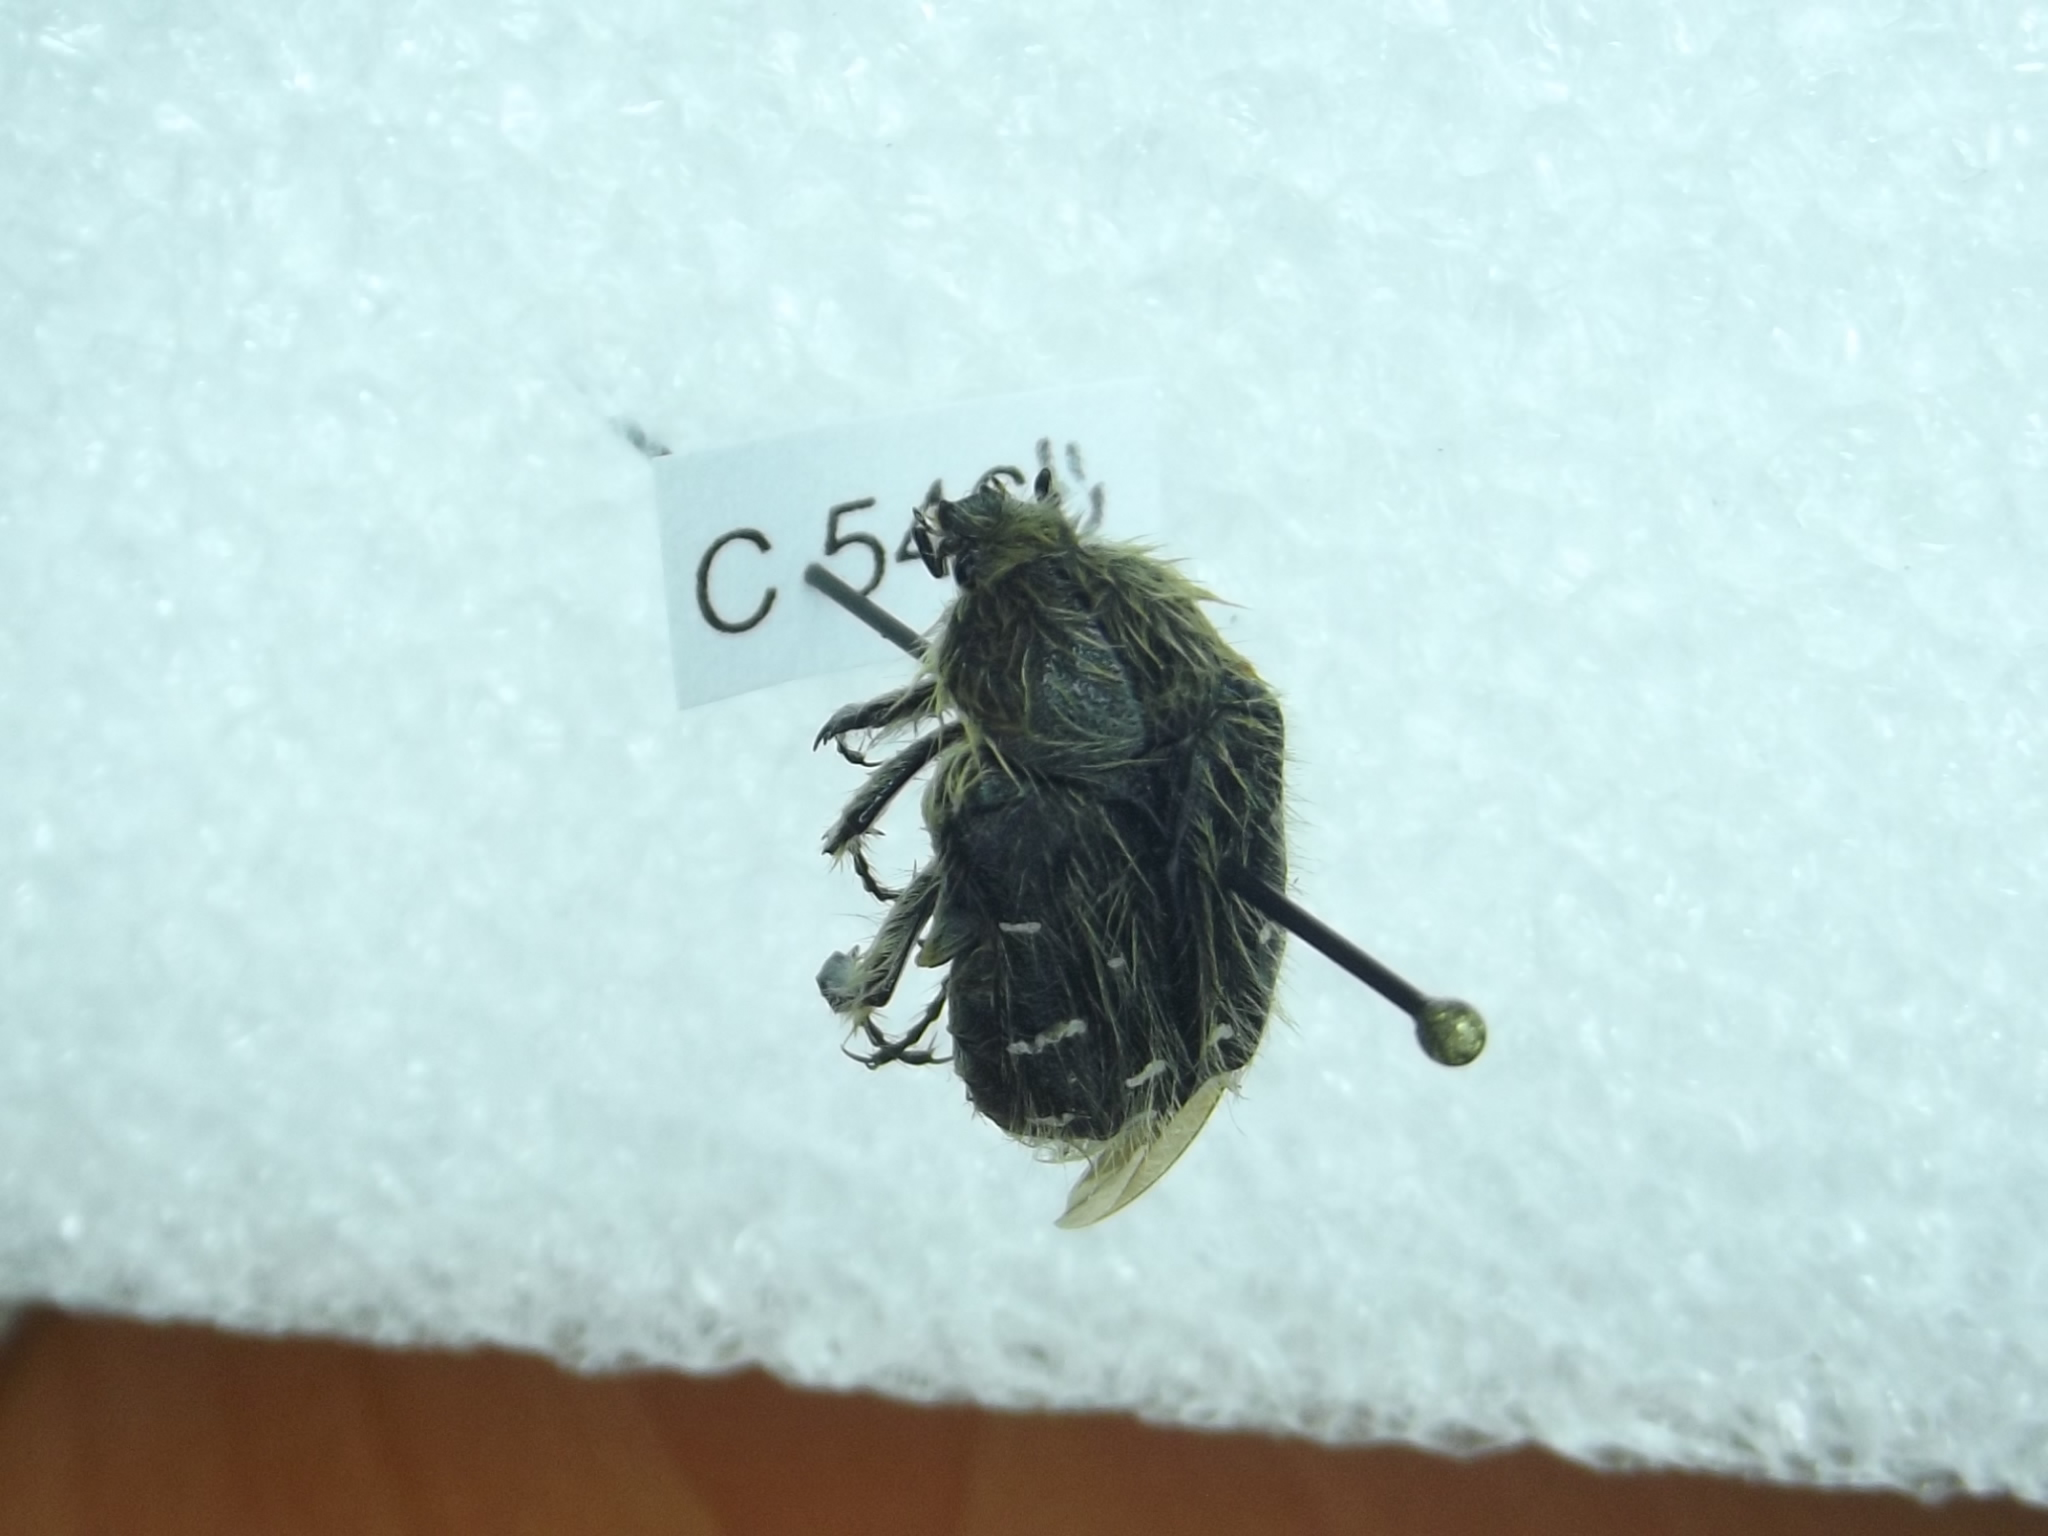Tropinota_senicula: (813, 423, 1332, 1234)
